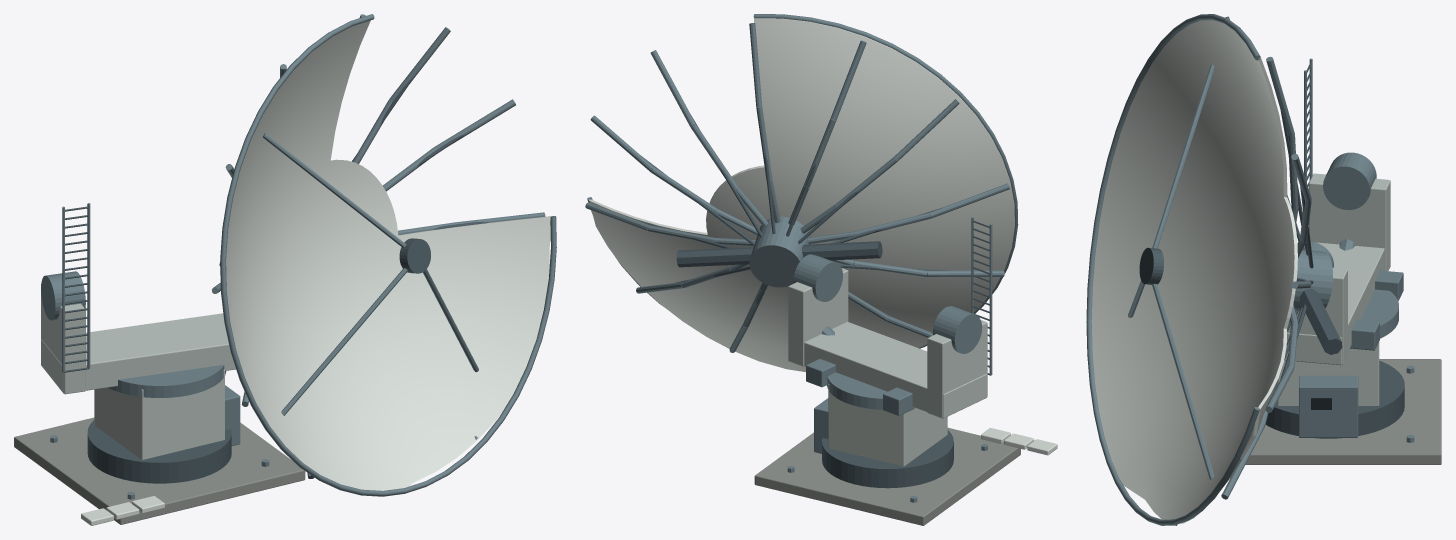
The model's file is skyward_medium_d3.glb.
3 views of the same model, side by side, from view 1: azimuth 30°, elevation 25°; view 2: azimuth 150°, elevation 25°; view 3: azimuth 270°, elevation 25° (orthographic). The views are drawn at different scales.
Visible parts, largest first — view 1: REFLECTOR_SURFACE.007, Geometry_ELEVATION.007_Structural frame / blue steel, Concrete octagonal pad.007, Geometry_AZIMUTH.007_Ceramic armor / limestone, Pedestal.007, Geometry_AZIMUTH.007_Structural frame / blue steel, Foundation bearing.007, Geometry_ELEVATION.007_Edge metal / graphite, Geometry_ROOT.007_Reflector / warm ceramic, Geometry_AZIMUTH.007_Edge metal / graphite, Geometry_ROOT.007_Structural frame / blue steel; view 2: REFLECTOR_SURFACE.007, Geometry_ELEVATION.007_Structural frame / blue steel, Geometry_AZIMUTH.007_Ceramic armor / limestone, Concrete octagonal pad.007, Geometry_AZIMUTH.007_Structural frame / blue steel, Pedestal.007, Geometry_ELEVATION.007_Edge metal / graphite, Foundation bearing.007, Geometry_ROOT.007_Reflector / warm ceramic, Geometry_ROOT.007_Structural frame / blue steel, Geometry_AZIMUTH.007_Edge metal / graphite; view 3: REFLECTOR_SURFACE.007, Geometry_ELEVATION.007_Structural frame / blue steel, Geometry_AZIMUTH.007_Ceramic armor / limestone, Concrete octagonal pad.007, Geometry_AZIMUTH.007_Structural frame / blue steel, Geometry_ROOT.007_Structural frame / blue steel, Geometry_ELEVATION.007_Edge metal / graphite, Foundation bearing.007, Pedestal.007.
Boxes of the visible parts, <box> form: REFLECTOR_SURFACE.007: <box>226,20,550,490</box>; Geometry_ELEVATION.007_Structural frame / blue steel: <box>212,14,556,496</box>; Concrete octagonal pad.007: <box>14,417,305,524</box>; Geometry_AZIMUTH.007_Ceramic armor / limestone: <box>41,284,235,394</box>; Pedestal.007: <box>94,369,224,459</box>; Geometry_AZIMUTH.007_Structural frame / blue steel: <box>41,203,226,397</box>; Foundation bearing.007: <box>87,420,231,483</box>; Geometry_ELEVATION.007_Edge metal / graphite: <box>219,77,488,273</box>; Geometry_ROOT.007_Reflector / warm ceramic: <box>81,496,164,525</box>; Geometry_AZIMUTH.007_Edge metal / graphite: <box>63,206,88,372</box>; Geometry_ROOT.007_Structural frame / blue steel: <box>50,385,269,499</box>; REFLECTOR_SURFACE.007: <box>589,18,1014,371</box>; Geometry_ELEVATION.007_Structural frame / blue steel: <box>585,14,1018,352</box>; Geometry_AZIMUTH.007_Ceramic armor / limestone: <box>788,268,987,418</box>; Concrete octagonal pad.007: <box>754,427,1020,525</box>; Geometry_AZIMUTH.007_Structural frame / blue steel: <box>793,217,992,415</box>; Pedestal.007: <box>828,384,947,466</box>; Geometry_ELEVATION.007_Edge metal / graphite: <box>636,115,945,320</box>; Foundation bearing.007: <box>822,430,953,488</box>; Geometry_ROOT.007_Reflector / warm ceramic: <box>981,428,1057,455</box>; Geometry_ROOT.007_Structural frame / blue steel: <box>787,398,987,502</box>; Geometry_AZIMUTH.007_Edge metal / graphite: <box>973,220,990,375</box>; REFLECTOR_SURFACE.007: <box>1091,20,1297,523</box>; Geometry_ELEVATION.007_Structural frame / blue steel: <box>1086,14,1332,525</box>; Geometry_AZIMUTH.007_Ceramic armor / limestone: <box>1285,173,1390,365</box>; Concrete octagonal pad.007: <box>1245,359,1441,464</box>; Geometry_AZIMUTH.007_Structural frame / blue steel: <box>1304,58,1403,350</box>; Geometry_ROOT.007_Structural frame / blue steel: <box>1299,365,1414,442</box>; Geometry_ELEVATION.007_Edge metal / graphite: <box>1139,109,1342,379</box>; Foundation bearing.007: <box>1265,360,1404,438</box>; Pedestal.007: <box>1277,342,1379,405</box>.
Size of the model in its own units: 21.16 by 17.89 by 12.57.
